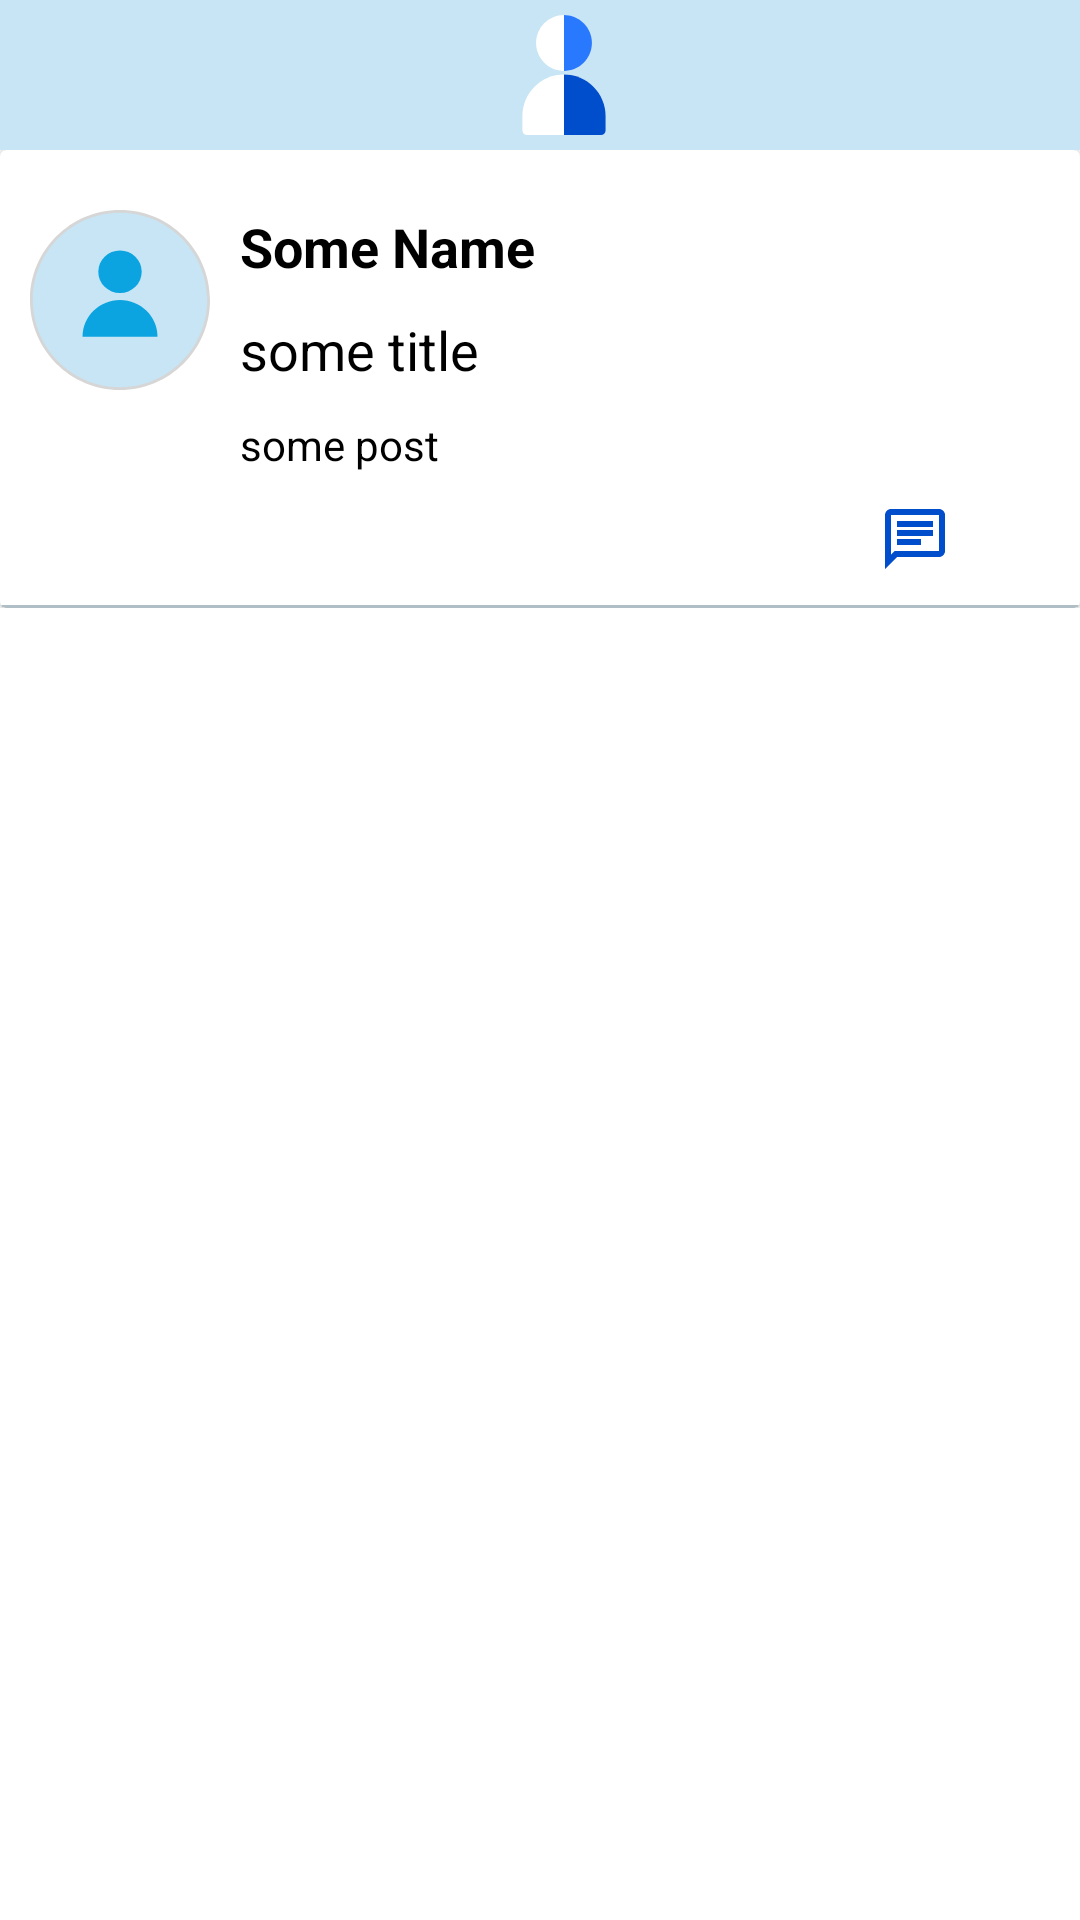

Named icons in this screenshot (1080x1920) and their centers, point (x, y):
chat: point (915, 539)
